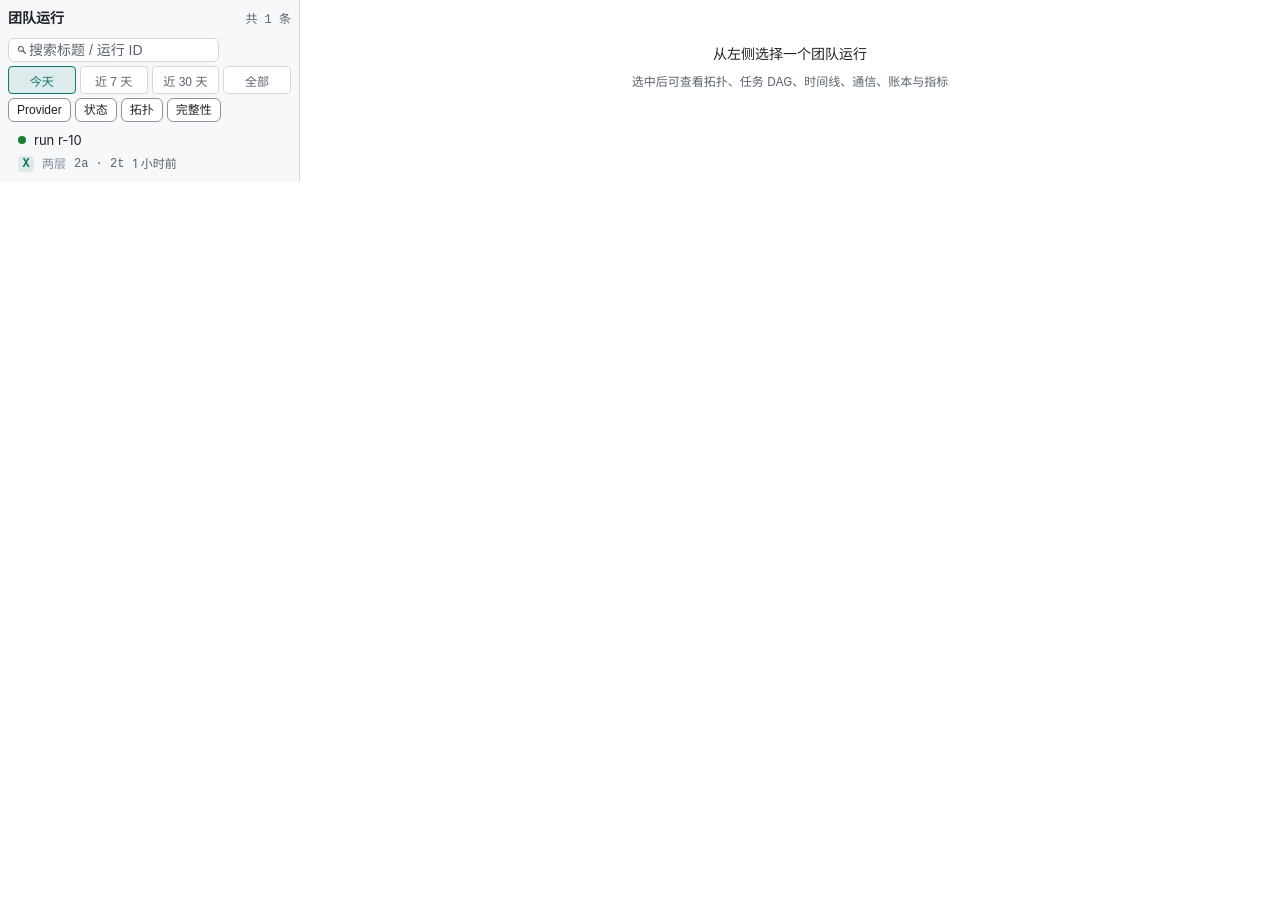
TeamShell 六状态 › communication unavailable 态（completeness.communication=unavailable）
Click the option with class "team-row". click: (58, 140)
box: [18, 132, 177, 172]
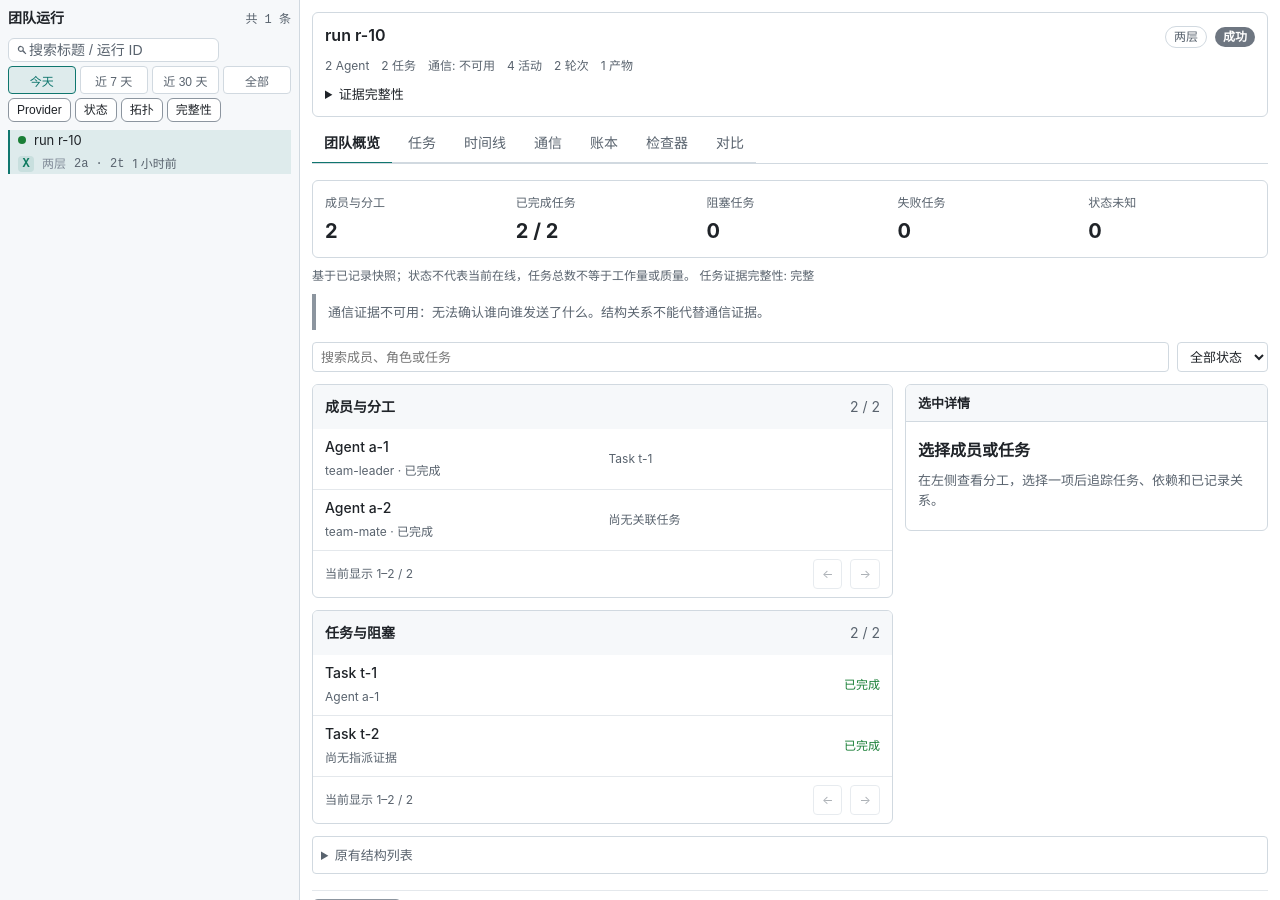
// 切到 communication panel
Click the tab "通信". click: (548, 144)
box: [522, 125, 574, 163]
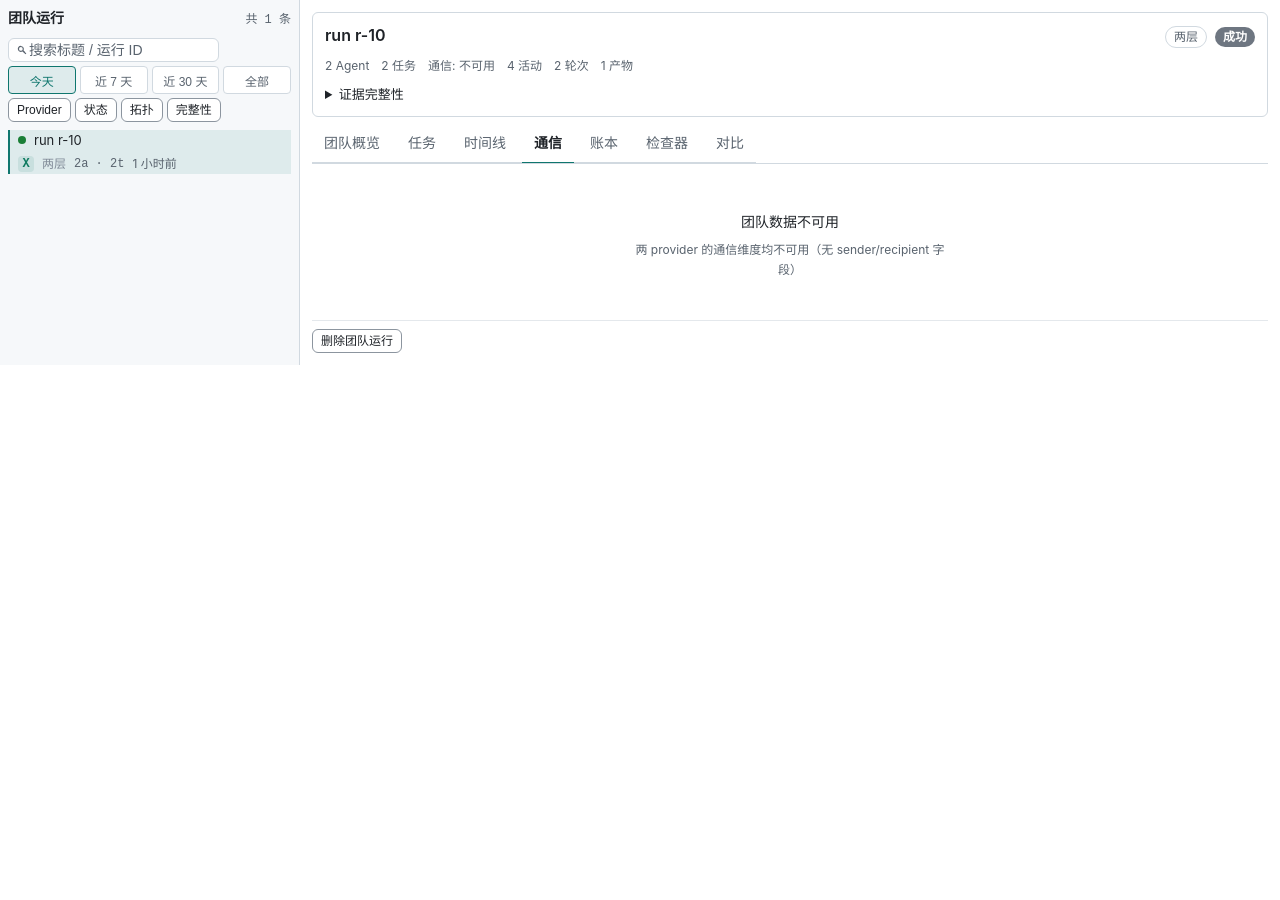
Check: the text "团队数据不可用" is shown, box [741, 212, 839, 232]
